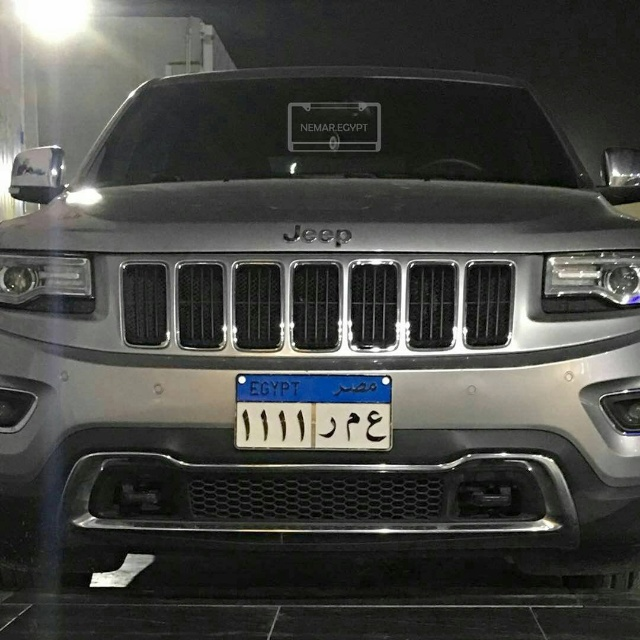License Plate: (231, 367, 396, 457)
